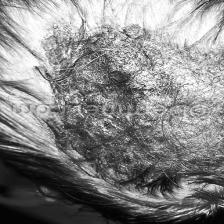Toxin: (41, 25, 224, 101), (63, 118, 224, 177)
